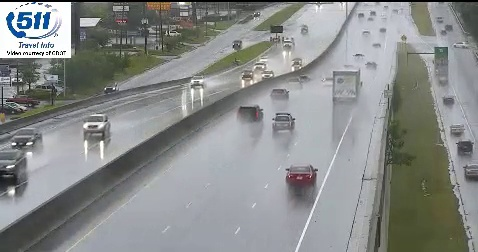car: (285, 165, 316, 186), (237, 106, 263, 122), (273, 114, 294, 130), (270, 88, 289, 101)
small-truck: (333, 69, 361, 102)
